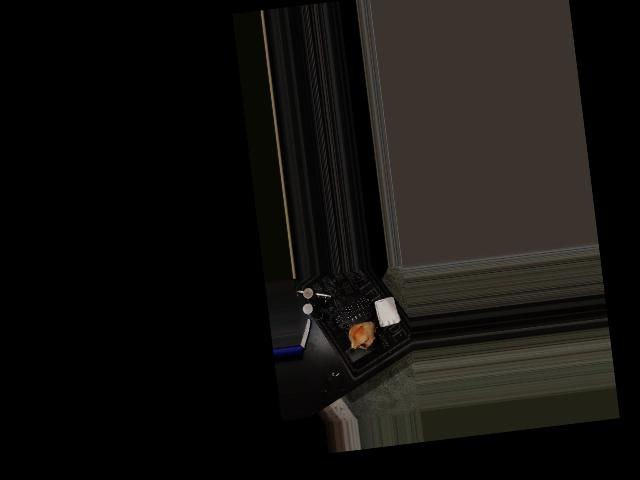onion: (345, 317, 378, 350)
